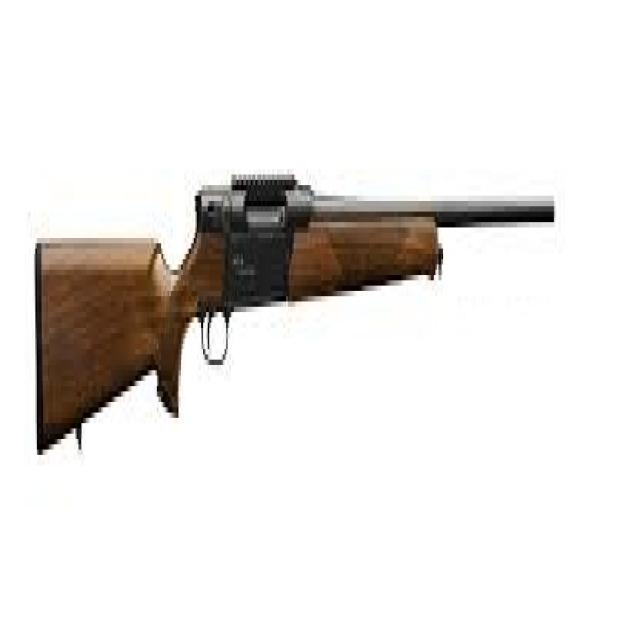rifle: (31, 161, 561, 474)
